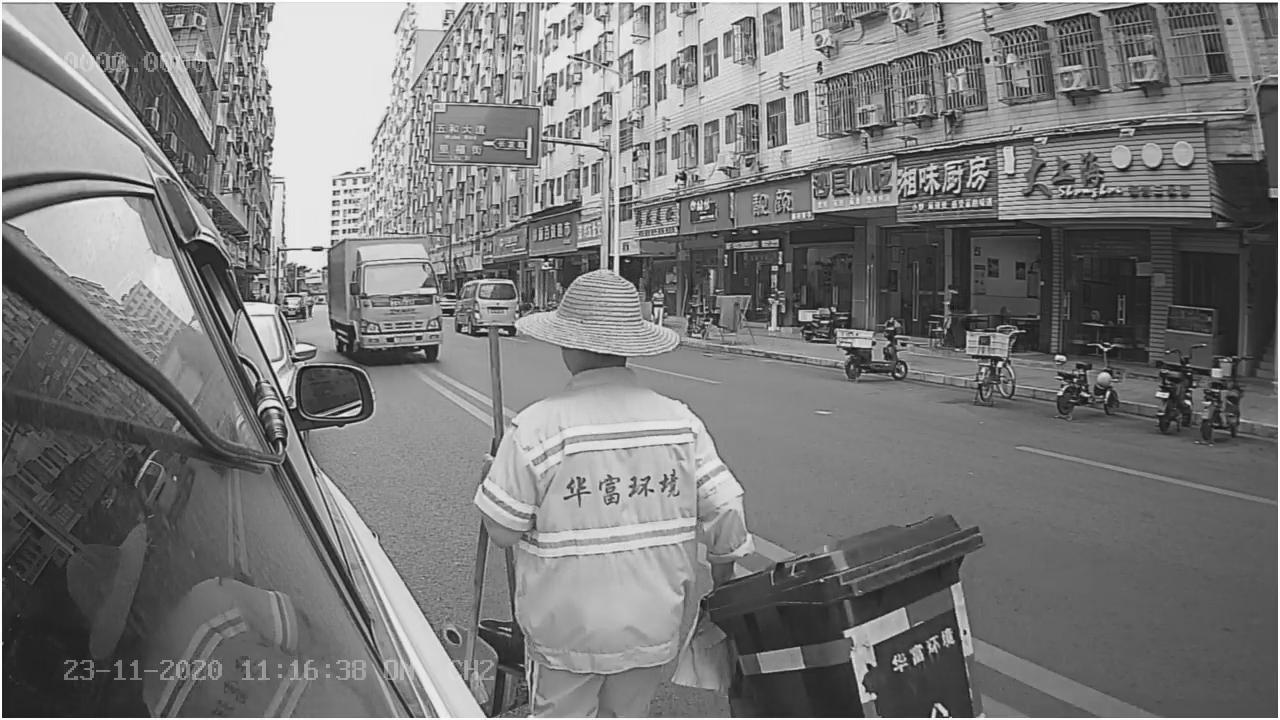person: (502, 262, 762, 581)
